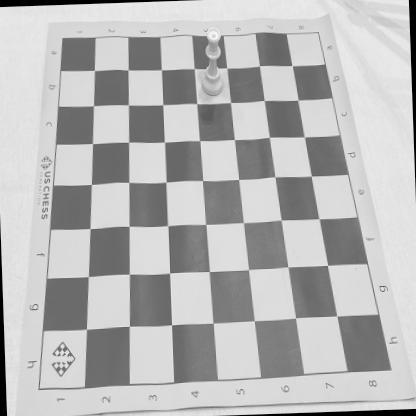queen: (199, 26, 224, 98)
